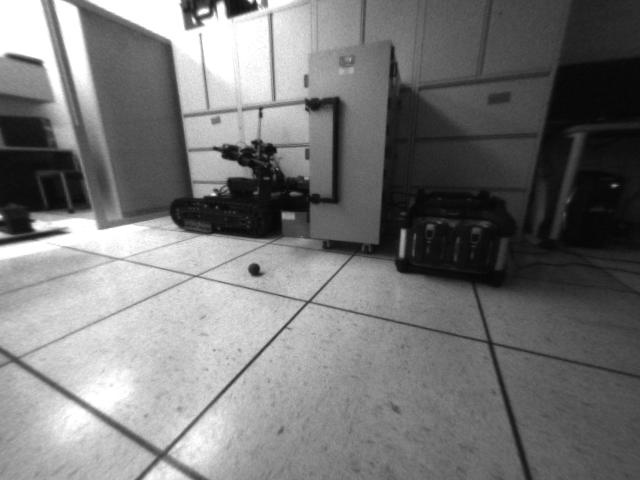dogtoy: (245, 258, 269, 280)
